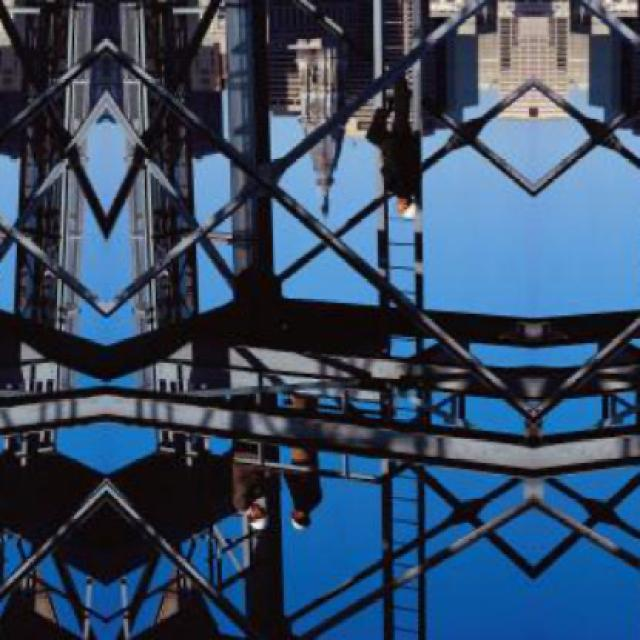con casco: (382, 165, 446, 243), (224, 479, 264, 543), (288, 498, 320, 543)
